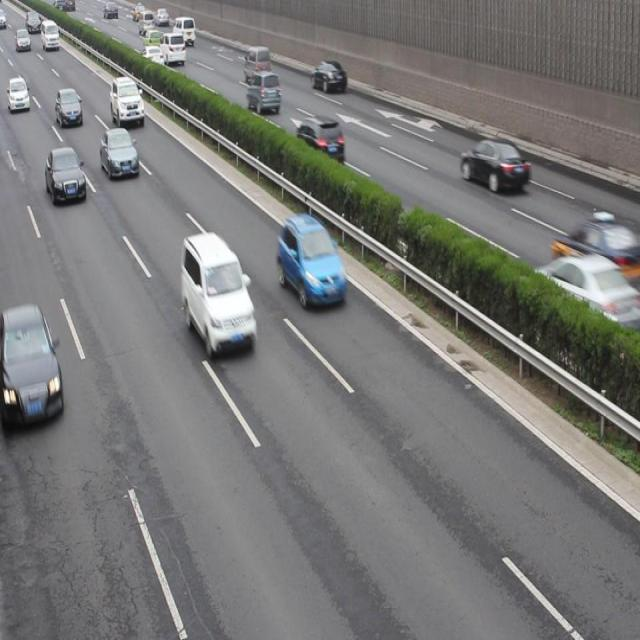car: (183, 229, 253, 354), (536, 251, 640, 335), (0, 306, 60, 421), (551, 213, 640, 281), (278, 216, 344, 306), (460, 136, 527, 194), (297, 115, 344, 162), (48, 145, 86, 202), (99, 126, 140, 177), (110, 76, 146, 126), (247, 72, 280, 112), (312, 60, 346, 92), (56, 87, 81, 123), (1, 77, 28, 108), (160, 34, 185, 64), (140, 47, 164, 69), (144, 27, 162, 49)
truck: (244, 43, 270, 78), (172, 15, 195, 44)
